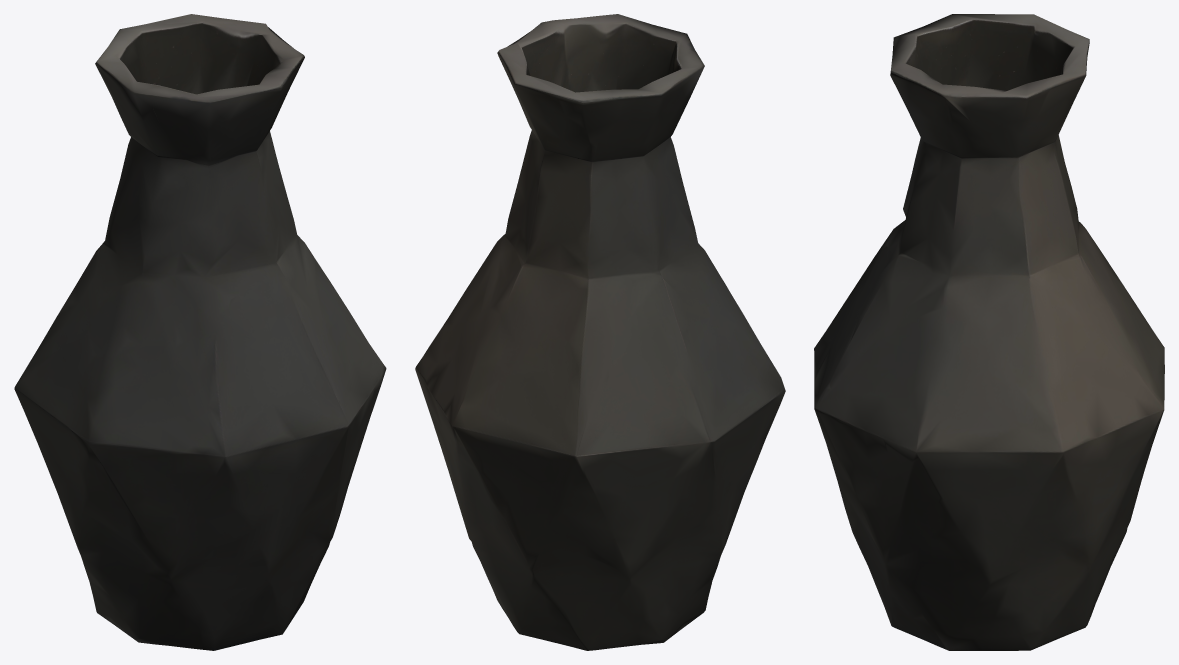
File: low+poly+vase+3d+model.glb
3 renders of one model, left to right at view 1: azimuth 30°, elevation 25°; view 2: azimuth 150°, elevation 25°; view 3: azimuth 270°, elevation 25°, orthographic.
Parts seen in each view (by area): view 1: tripo_node_b18d9a64-4633-487a-8615-470f86c46a08; view 2: tripo_node_b18d9a64-4633-487a-8615-470f86c46a08; view 3: tripo_node_b18d9a64-4633-487a-8615-470f86c46a08.
Boxes of the visible parts, x1=… form: tripo_node_b18d9a64-4633-487a-8615-470f86c46a08: x1=14, y1=14, x2=386, y2=650; tripo_node_b18d9a64-4633-487a-8615-470f86c46a08: x1=415, y1=14, x2=785, y2=650; tripo_node_b18d9a64-4633-487a-8615-470f86c46a08: x1=814, y1=14, x2=1164, y2=650.
Size of the model in its own units: 0.5701 by 1 by 0.5712.
1 material, 1 textured.
